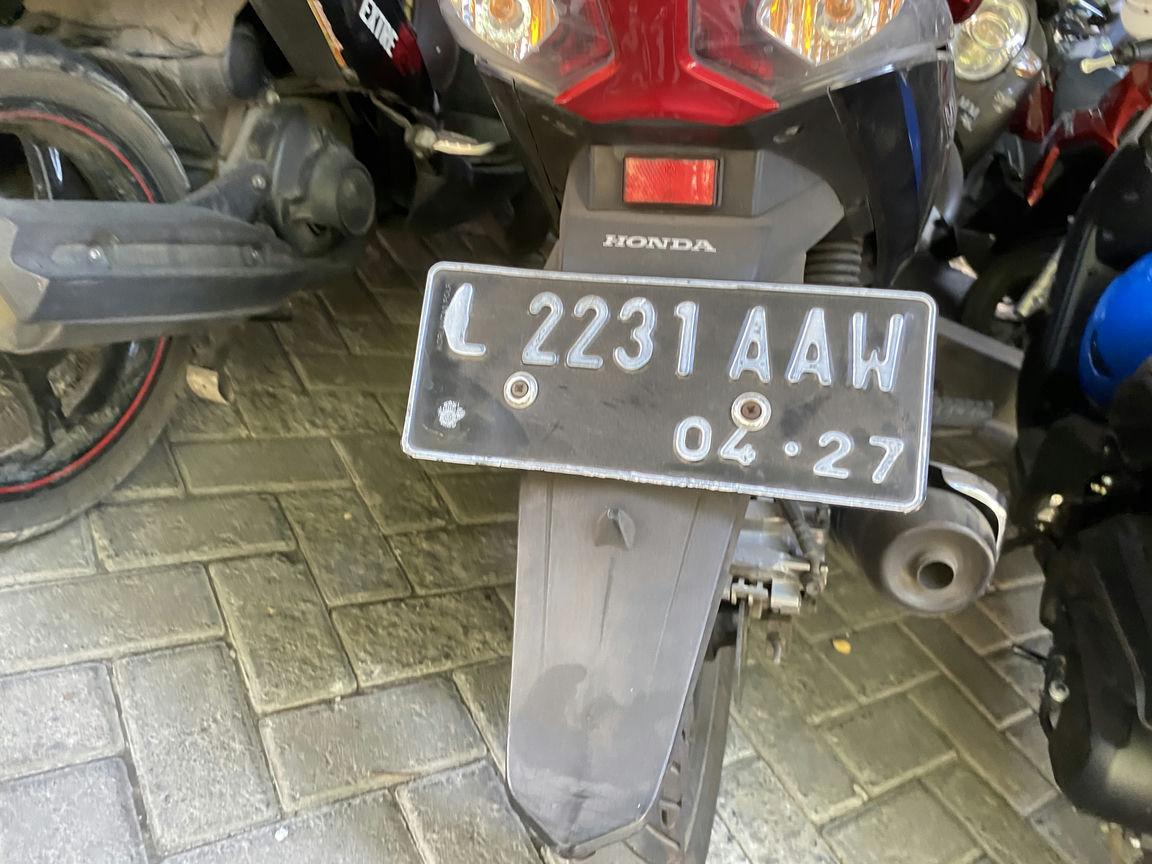plat: (403, 263, 936, 513)
